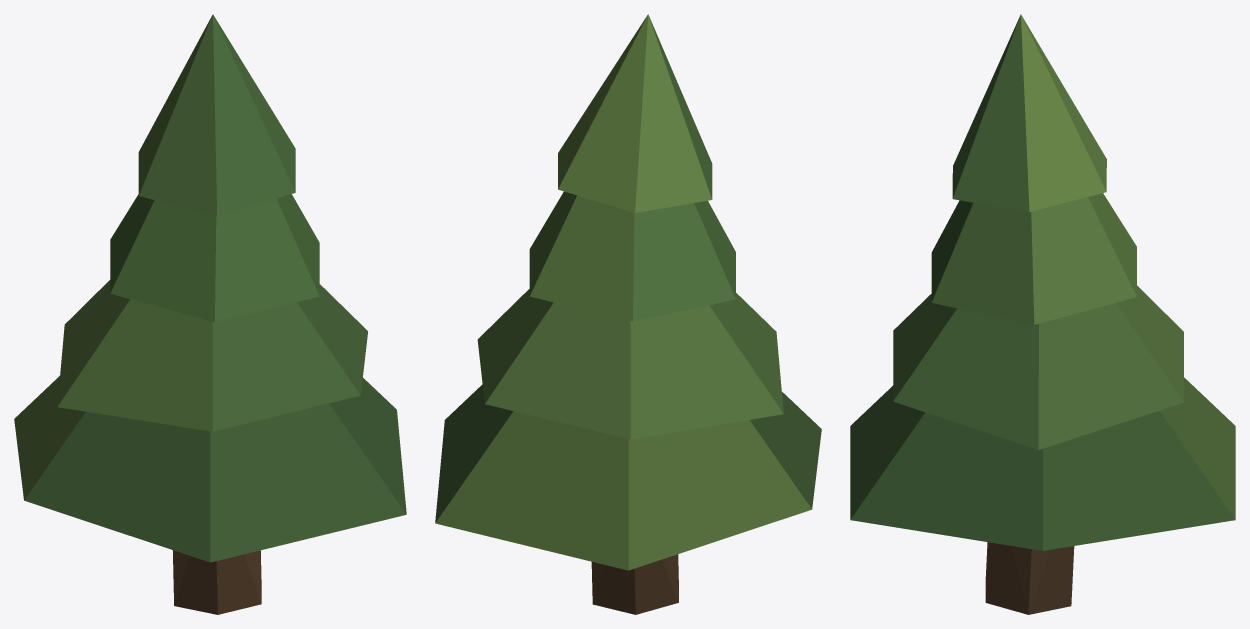
Rendered from Prop_Tree_Pine_1.glb.
The picture shows the model from 3 angles, left to right: view 1: azimuth 30°, elevation 25°; view 2: azimuth 150°, elevation 25°; view 3: azimuth 270°, elevation 25°; orthographic projection.
Visible parts, largest first — view 1: Prop_Tree_Pine_1_Merged; view 2: Prop_Tree_Pine_1_Merged; view 3: Prop_Tree_Pine_1_Merged.
Part boxes in pixels (x1,y1,x2,y2): Prop_Tree_Pine_1_Merged: (14, 14, 406, 614); Prop_Tree_Pine_1_Merged: (435, 14, 821, 614); Prop_Tree_Pine_1_Merged: (850, 14, 1235, 614).
Bounding box in the file's own units: 2.38 × 3.58 × 2.17.
